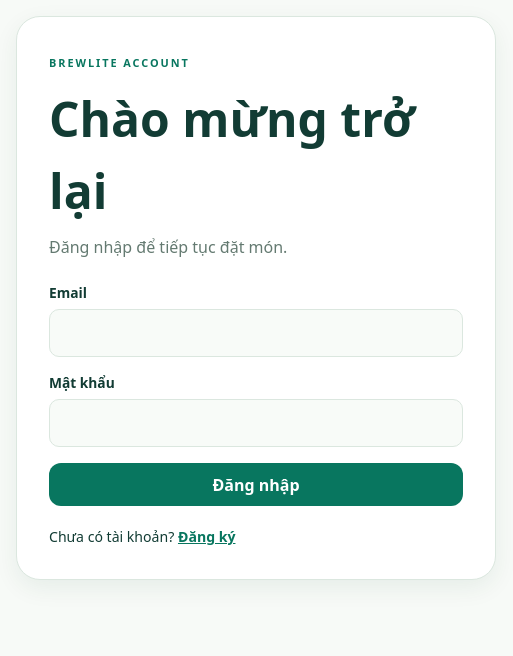
Test: AuthForm › shows a clear server error without exposing credentials
Type "customer@example.test" into the field labelled "Email" at (256, 333), box [49, 309, 463, 357]
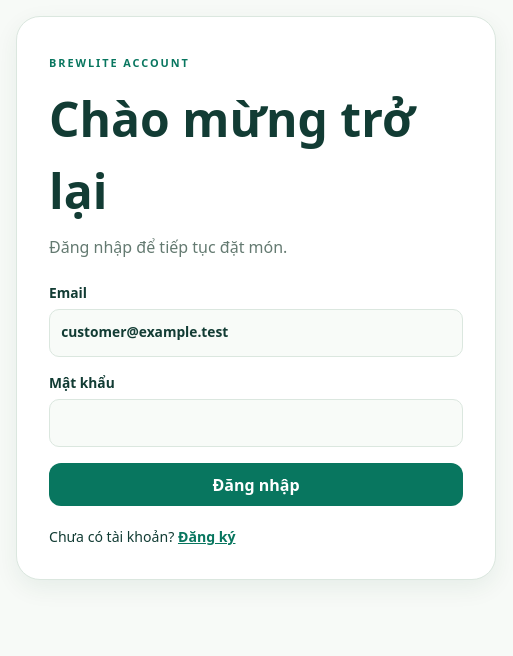
Type "incorrect-password" into the password field labelled "Mật khẩu" at (256, 423), box [49, 399, 463, 447]
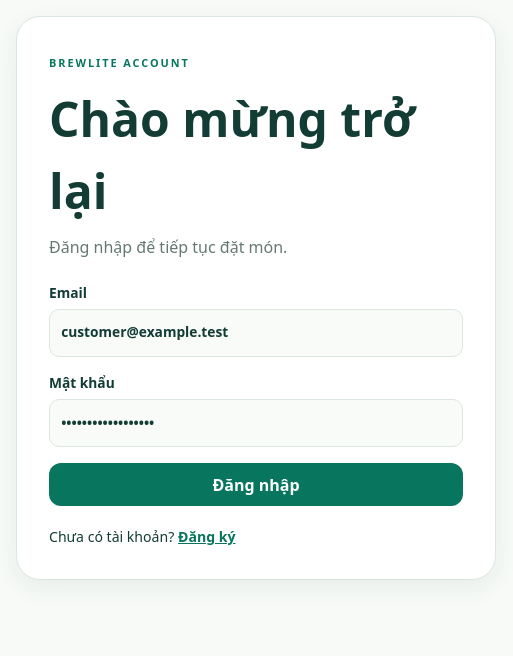
Click the button "Đăng nhập" at (256, 485), box [49, 463, 463, 506]
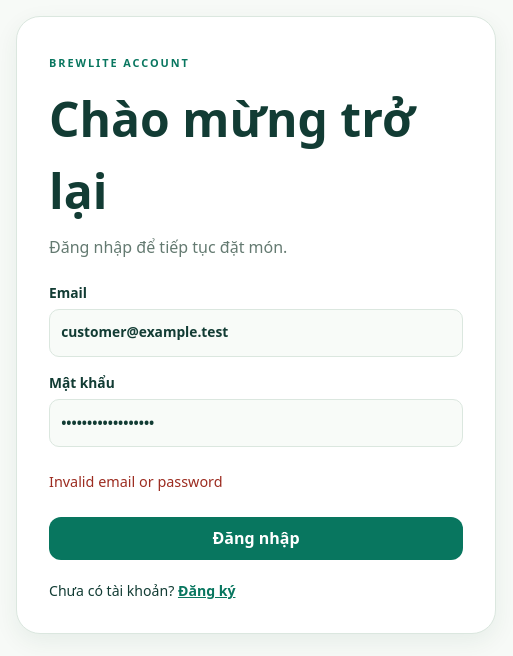
Expected: the message reads "Invalid email or password", [49, 472, 223, 491]
